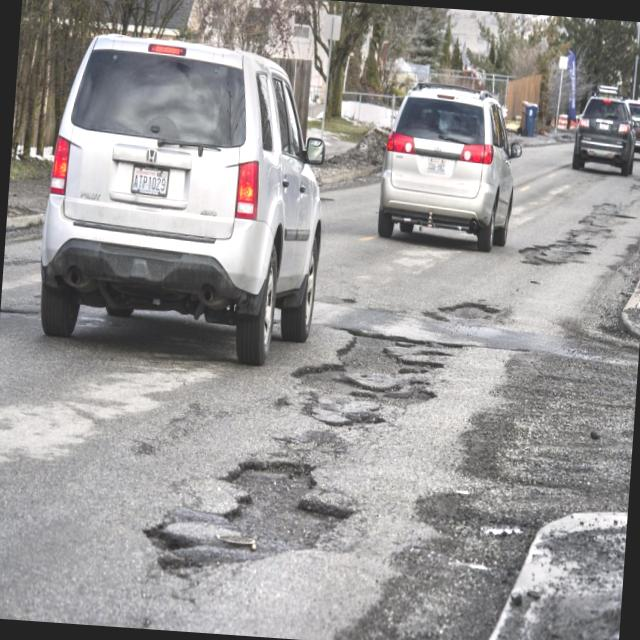bad-road: (137, 448, 360, 598), (288, 322, 464, 438), (517, 195, 637, 273), (438, 298, 504, 322), (475, 516, 528, 538), (629, 177, 640, 188)
